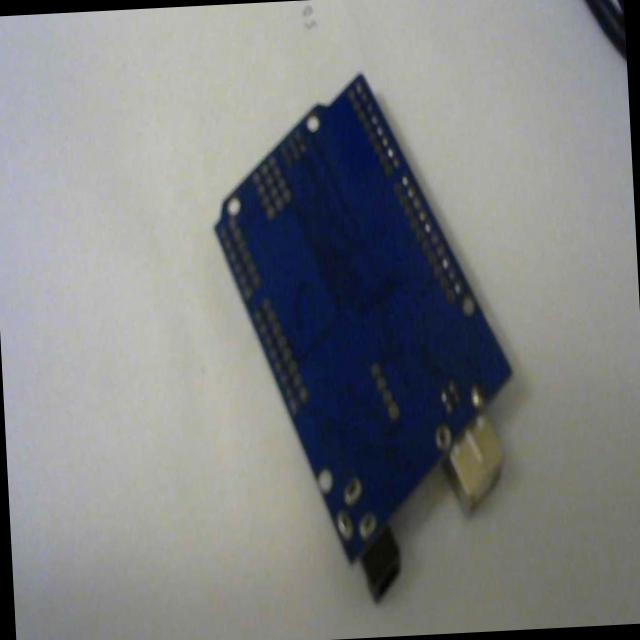arduino: (204, 60, 536, 618)
